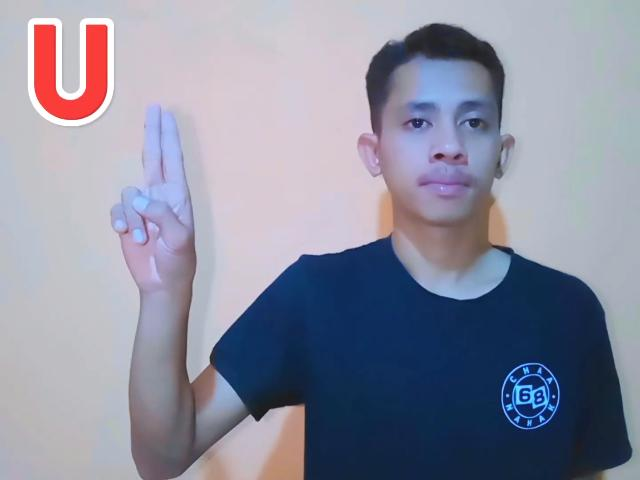U: (105, 99, 211, 295)
